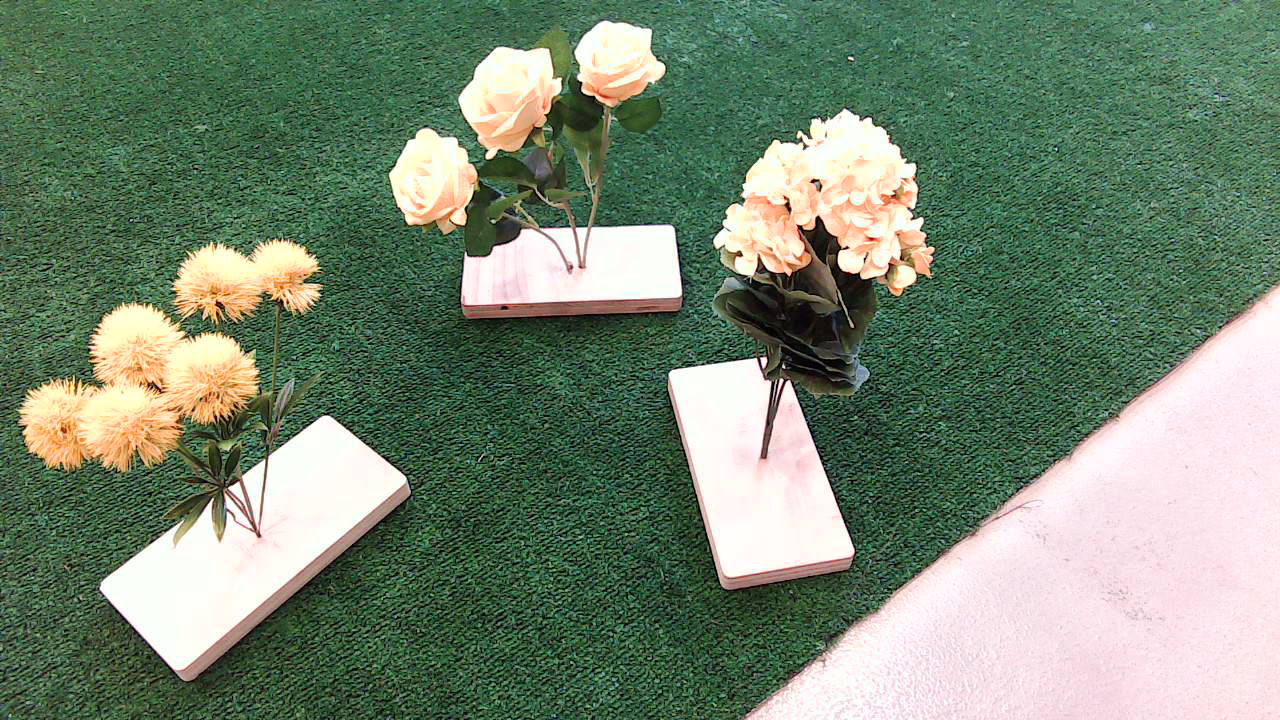dandelion: (23, 234, 361, 507)
geranium: (714, 112, 942, 487)
rose: (384, 23, 689, 257)
